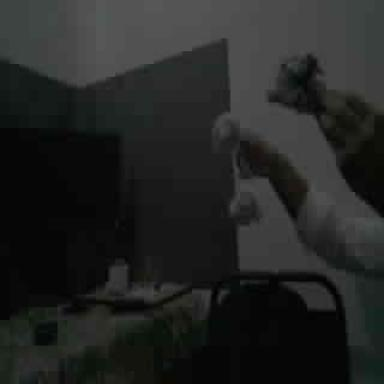paper: (212, 112, 258, 224), (281, 56, 318, 88)
